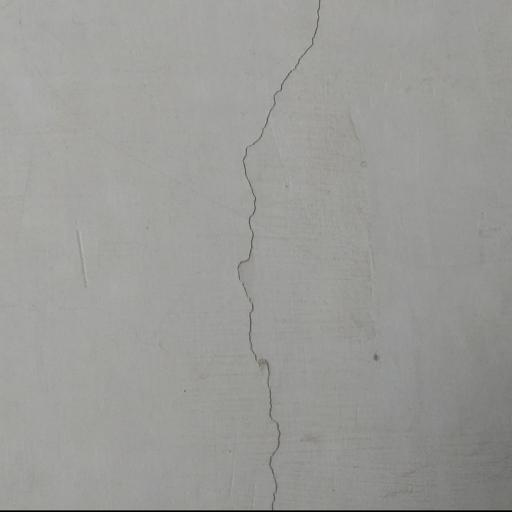minor_crack: (220, 0, 335, 512)
